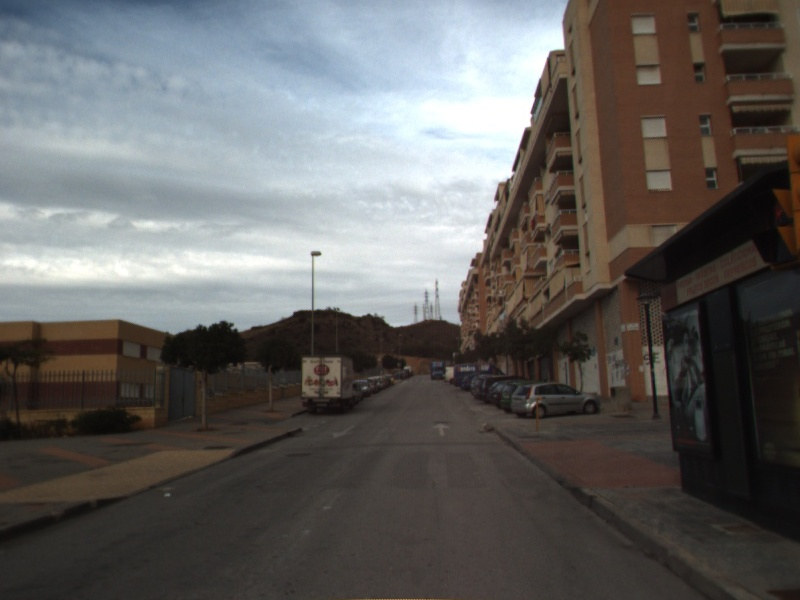STRAIGHT: (431, 421, 453, 438)
